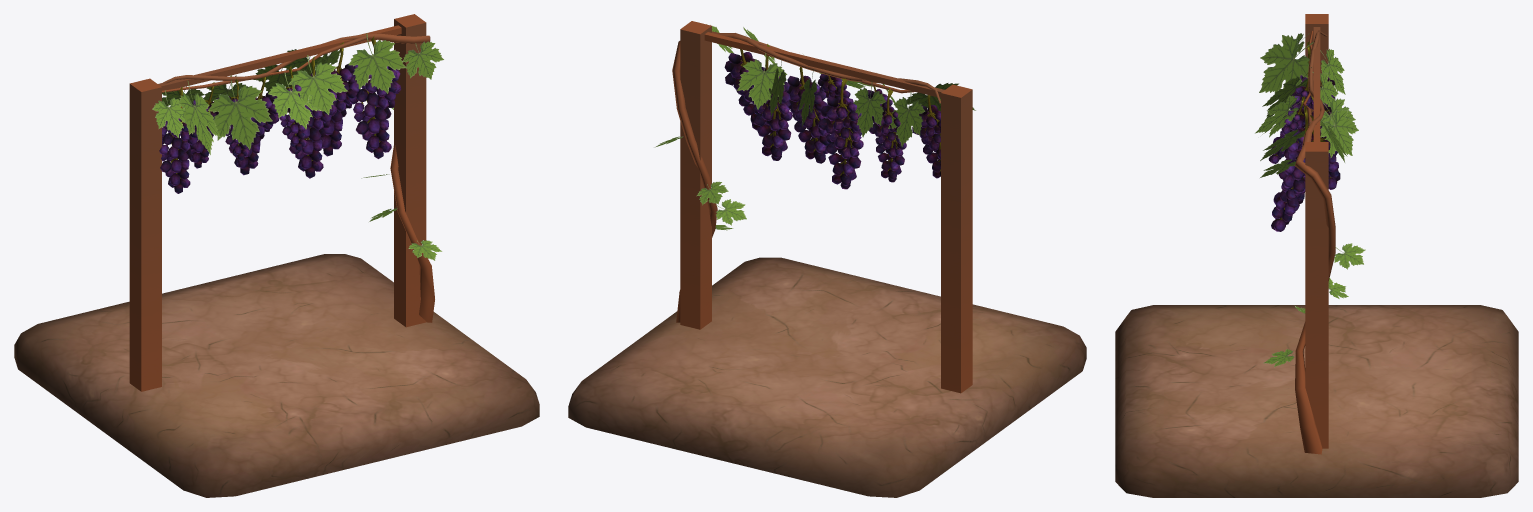
The model's file is üzüm deneme.fbx.
3 renders of one model, left to right at view 1: azimuth 30°, elevation 25°; view 2: azimuth 150°, elevation 25°; view 3: azimuth 270°, elevation 25°, orthographic.
Visible parts, largest first — view 1: Soil_marul.001, Cube.001, Cube, BézierCurve, SM_GrapesPurple_Grapes_0, Plane.096, Cube.002, Plane.082, SM_GrapesPurple_Grapes_0.007, Plane.092, SM_GrapesPurple_Grapes_0.002, SM_GrapesPurple_Grapes_0.001 (+6 smaller); view 2: Soil_marul.001, Cube.001, Cube, BézierCurve, SM_GrapesPurple_Grapes_0.003, Cube.002, SM_GrapesPurple_Grapes_0.002, SM_GrapesPurple_Grapes_0.001, SM_GrapesPurple_Grapes_0.005, Plane.102, SM_GrapesPurple_Grapes_0.007, Plane.099 (+3 smaller); view 3: Soil_marul.001, Cube, BézierCurve, Plane.097, SM_GrapesPurple_Grapes_0, Plane.104, Cube.001, Cube.002, Plane.105, SM_GrapesPurple_Grapes_0.004, Plane.099, Plane.096 (+3 smaller).
Boxes of the visible parts, x1,y1,x2,y2 form: Soil_marul.001: (14,254,539,497); Cube.001: (129,78,161,391); Cube: (394,14,426,327); BézierCurve: (162,33,434,322); SM_GrapesPurple_Grapes_0: (349,36,401,158); Plane.096: (208,75,272,149); Cube.002: (158,25,401,90); Plane.082: (348,33,406,93); SM_GrapesPurple_Grapes_0.007: (159,87,197,193); Plane.092: (288,55,347,114); SM_GrapesPurple_Grapes_0.002: (286,56,336,178); SM_GrapesPurple_Grapes_0.001: (310,42,357,156); Soil_marul.001: (568,257,1086,497); Cube.001: (941,84,972,393); Cube: (680,21,711,329); BézierCurve: (672,31,940,322); SM_GrapesPurple_Grapes_0.003: (818,78,863,189); Cube.002: (704,32,944,97); SM_GrapesPurple_Grapes_0.002: (786,67,829,163); SM_GrapesPurple_Grapes_0.001: (744,44,792,160); SM_GrapesPurple_Grapes_0.005: (869,88,906,182); Plane.102: (737,53,787,109); SM_GrapesPurple_Grapes_0.007: (912,95,940,178); Plane.099: (888,91,925,146); Soil_marul.001: (1115,305,1518,497); Cube: (1305,142,1328,448); BézierCurve: (1295,30,1335,454); Plane.097: (1259,35,1313,92); SM_GrapesPurple_Grapes_0: (1271,129,1307,231); Plane.104: (1320,109,1358,157); Cube.001: (1305,14,1328,112); Cube.002: (1313,27,1320,141); Plane.105: (1255,95,1307,137); SM_GrapesPurple_Grapes_0.004: (1268,96,1305,163); Plane.099: (1320,49,1345,94); Plane.096: (1262,67,1311,118).
Size of the model in its own units: 162 by 152 by 162.
